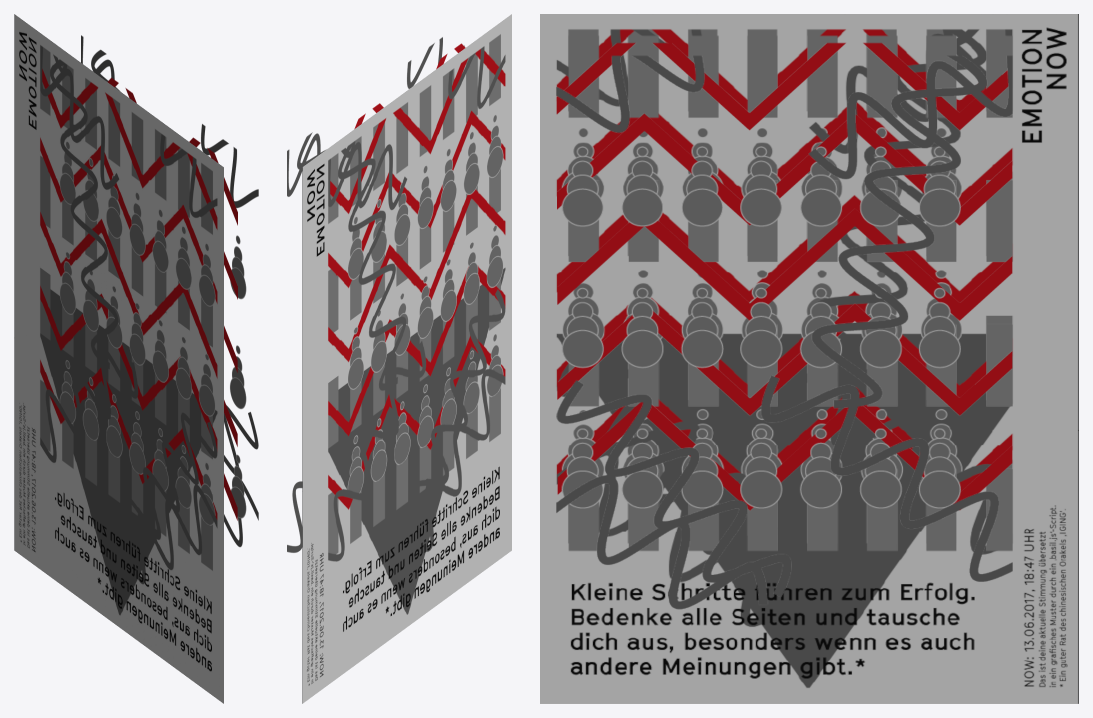
File: emotion_now.glb
3 views of the same model, side by side, from view 1: azimuth 30°, elevation 25°; view 2: azimuth 150°, elevation 25°; view 3: azimuth 270°, elevation 25° (orthographic). The views are drawn at different scales.
Visible parts, largest first — view 1: 00 BG, 06 all curves, 05 round, 04 zigzac; view 2: 00 BG, 06 all curves; view 3: 00 BG, 03 rec, 05 round, 04 zigzac, 06 all curves, 01 BG remove expand.
Part boxes in pixels (x1,y1,x2,y2): 00 BG: (14,14,223,703); 06 all curves: (81,35,258,547); 05 round: (230,235,246,518); 04 zigzac: (107,77,237,520); 00 BG: (302,14,511,703); 06 all curves: (287,37,464,552); 00 BG: (540,14,1078,703); 03 rec: (568,35,1012,551); 05 round: (561,146,960,508); 04 zigzac: (556,42,1012,510); 06 all curves: (556,55,1012,609); 01 BG remove expand: (540,14,1078,703).
Size of the model in its own units: 0.08 by 1 by 0.7077.
Materials: 6 (6 with a texture image).
